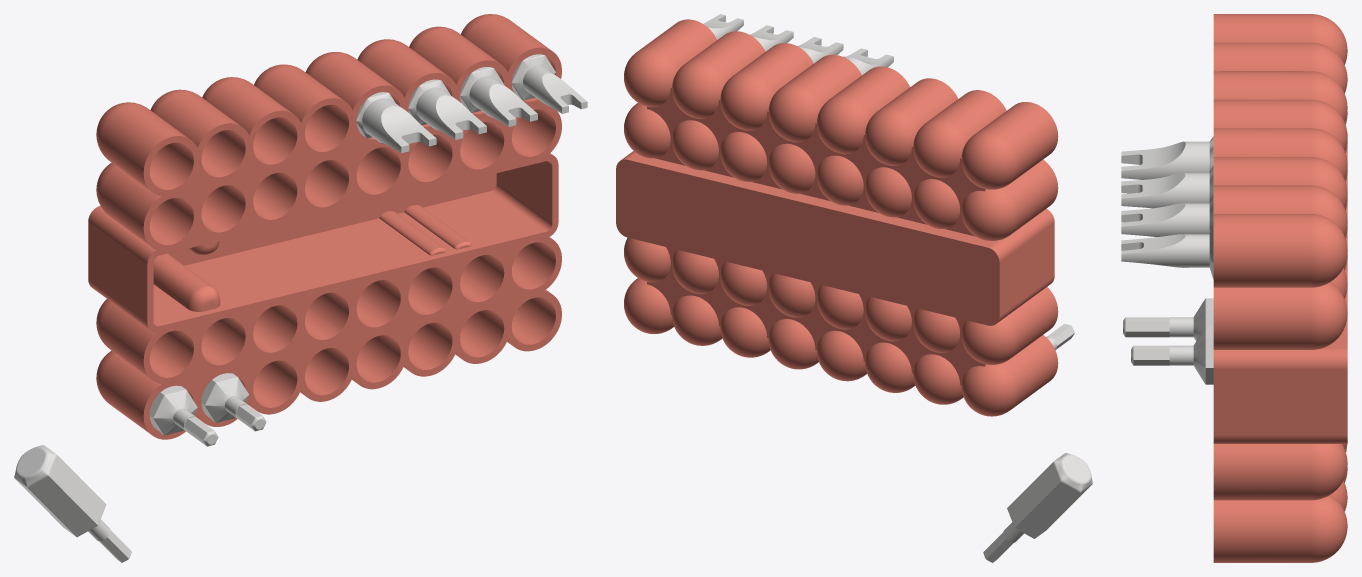
Rendered from Screw_bits.glb.
3 views of the same model, side by side, from view 1: azimuth 30°, elevation 25°; view 2: azimuth 150°, elevation 25°; view 3: azimuth 270°, elevation 25° (orthographic). The views are drawn at different scales.
Visible parts, largest first — view 1: Body24, Body1_node_5, Body1_node_4, Body9, Body2_node_2, Body3, Body4, Body41, Body33, Body5, Body8, Body6 (+42 smaller); view 2: Body24, Body1_node_5, Body1_node_4, Body33, Body9, Body5, Body2_node_2, Body6, Body7, Body4, Body8, Body3 (+39 smaller); view 3: Body24, Body8, Body16, Body40, Body48, Body4, Body2_node_2, Body1_node_5, Body3, Body7, Body5, Body6 (+6 smaller).
Boxes of the visible parts, x1,y1,x2,y2 form: Body24: (88,153,558,332); Body1_node_5: (96,102,199,196); Body1_node_4: (14,445,131,562); Body9: (96,162,199,251); Body2_node_2: (150,89,251,183); Body3: (202,77,303,171); Body4: (254,64,355,158); Body41: (96,299,199,384); Body33: (96,350,199,439); Body5: (305,52,406,145); Body8: (461,14,561,107); Body6: (357,39,458,132); Body24: (616,151,1054,325); Body1_node_5: (961,102,1058,189); Body1_node_4: (983,453,1092,562); Body33: (961,335,1058,416); Body9: (961,159,1058,240); Body5: (768,54,861,142); Body2_node_2: (913,90,1006,177); Body6: (720,43,813,130); Body7: (672,31,765,118); Body4: (817,66,909,154); Body8: (624,19,716,107); Body3: (865,78,958,165); Body24: (1213,133,1347,443); Body8: (1213,214,1347,287); Body16: (1213,282,1347,349); Body40: (1213,495,1347,562); Body48: (1213,444,1347,500); Body4: (1213,99,1347,150); Body2_node_2: (1213,42,1347,93); Body1_node_5: (1213,14,1347,64); Body3: (1213,71,1347,121); Body7: (1213,185,1347,236); Body5: (1213,128,1347,178); Body6: (1213,157,1347,207).
Size of the model in its own units: 80.94 by 71.2 by 28.2.
